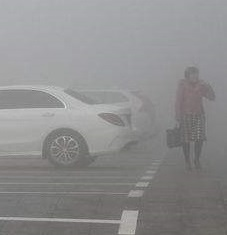person: (166, 65, 216, 172)
